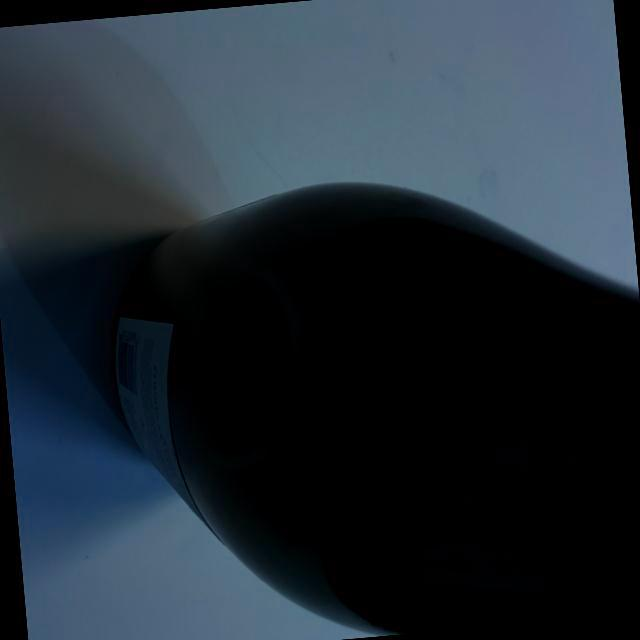glass: (87, 150, 640, 640)
